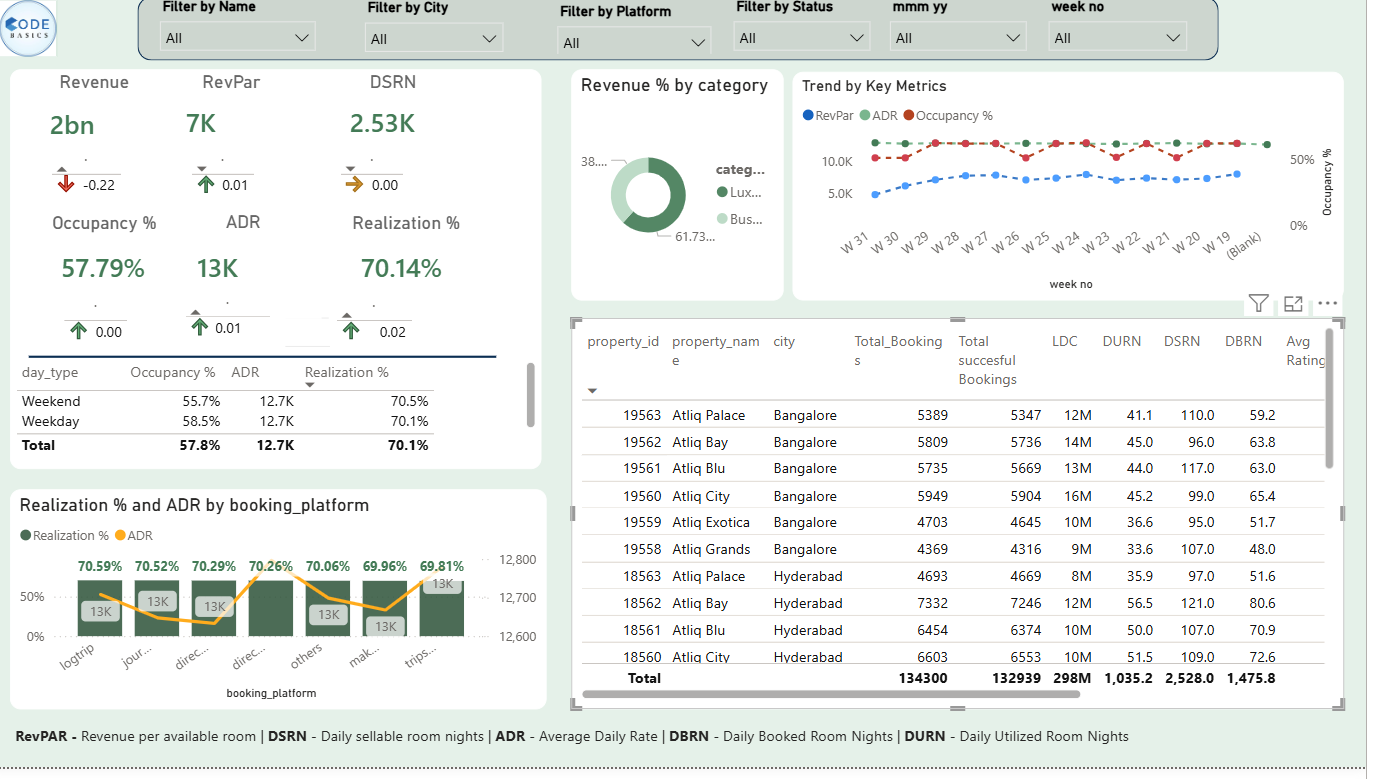

Layout of this report page (visuals, bound fields, positions):
{"tool":"powerbi","page":{"name":"Home","canvas":[1280,720],"ordinal":0},"visuals":[{"type":"textbox","box":[18.6,70.9,494.2,372.1],"z":0},{"type":"tableEx","fields":{"Values":["dim_name.property_id","dim_name.property_name","dim_name.city","Key Measures.Total_Bookings","Key Measures.Total succesful Bookings","Key Measures.LDC","Key Measures.DURN","Key Measures.DSRN","Key Measures.DBRN","Key Measures.Avg Ratings","Key Measures.CR","Key Measures.ADR"]},"box":[540.7,302.3,718.6,364],"z":1000},{"type":"cardVisual","title":"Revenue","fields":{"Data":["Key Measures.Revenue"]},"box":[25.6,71.6,143,95.3],"z":3000},{"type":"tableEx","fields":{"Values":["Key Measures.Revenue WoW change %"]},"box":[50.7,137,97.7,60.5],"z":4000},{"type":"donutChart","title":"Revenue % by category","fields":{"Y":["Key Measures.Revenue"],"Category":["dim_name.category"]},"box":[540.7,70.9,197.7,215.1],"z":5000},{"type":"shape","box":[137.2,3.5,1005.8,59.3],"z":6000},{"type":"slicer","fields":{"Values":["dim_name.property_name"]},"box":[147.7,0,165.1,59.3],"z":7000},{"type":"slicer","fields":{"Values":["dim_name.city"]},"box":[338.4,1.2,148.8,60.5],"z":8000},{"type":"slicer","fields":{"Values":["fact_bookings.booking_status"]},"box":[681.4,0,147.7,64],"z":9000},{"type":"slicer","fields":{"Values":["fact_bookings.booking_platform"]},"box":[517.4,4.7,164,52.3],"z":10000},{"type":"slicer","fields":{"Values":["dim_date.mmm yy.Variation.Date Hierarchy.Month"]},"box":[205.9,275.7,147.7,53.5],"z":11000},{"type":"slicer","fields":{"Values":["dim_date.week no"]},"box":[974.4,0,148.8,58.1],"z":12000},{"type":"cardVisual","title":"RevPar","fields":{"Data":["Key Measures.RevPar"]},"box":[152.3,71.6,144.2,94.2],"z":13000},{"type":"lineChart","title":"Trend by Key Metrics","fields":{"Category":["dim_date.week no"],"Y":["Key Measures.RevPar","Key Measures.ADR"],"Y2":["Key Measures.Occupancy %"]},"box":[746.5,73.3,512.8,212.8],"z":14000},{"type":"lineStackedColumnComboChart","fields":{"Y":["Key Measures.Realization %"],"Y2":["Key Measures.ADR"],"Category":["fact_bookings.booking_platform"]},"box":[18.6,461.6,498.8,204.7],"z":15000},{"type":"cardVisual","title":"DSRN","fields":{"Data":["Key Measures.DSRN"]},"box":[304.7,71.6,140.7,94.2],"z":16000},{"type":"cardVisual","title":"Occupancy %","fields":{"Data":["Key Measures.Occupancy %"]},"box":[35.8,204,140.7,100],"z":17000},{"type":"cardVisual","title":"ADR","fields":{"Data":["Key Measures.ADR"]},"box":[162.6,202.8,145.3,101.2],"z":18000},{"type":"cardVisual","title":"Realization %","fields":{"Data":["Key Measures.Realization %"]},"box":[314.9,204,144.2,100],"z":19000},{"type":"tableEx","fields":{"Values":["Key Measures.DSRN WoW change %"]},"box":[319.3,137,82.6,60.5],"z":20000},{"type":"tableEx","fields":{"Values":["Key Measures.Occupancy WoW change %"]},"box":[62.6,273.3,81.4,61.6],"z":21000},{"type":"tableEx","fields":{"Values":["Key Measures.ADR WoW change %"]},"box":[175.8,270.2,98.8,68.6],"z":22000},{"type":"tableEx","fields":{"Values":["Key Measures.Realisation WoW change %"]},"box":[316.5,273.7,95.3,65.1],"z":23000},{"type":"shape","box":[36,327.9,434.9,20.9],"z":24000},{"type":"tableEx","fields":{"Values":["dim_date.day_type","Key Measures.Occupancy %","Key Measures.ADR","Key Measures.Realization %"]},"box":[18.6,348.8,494.2,94.2],"z":25000},{"type":"tableEx","fields":{"Values":["Key Measures.ADR WoW change %"]},"box":[180.9,137,86,60.5],"z":26000},{"type":"textbox","box":[18.6,676.7,1252.3,43],"z":27000},{"type":"image","box":[8.1,7,54.7,52.3],"z":28000},{"type":"slicer","fields":{"Values":["dim_date.mmm yy"]},"box":[826.7,0,147.7,58.1],"z":29000}]}

Visuals, with their boxes in screenshot pixels (x1, y1, x2, y2), scaled from the page's 1280x720 canvas onto the 1375x779 screenshot:
textbox: [20, 77, 551, 479]
tableEx - dim_name.property_id x dim_name.property_name: [581, 327, 1353, 721]
"Revenue" cardVisual: [28, 77, 181, 181]
tableEx - Key Measures.Revenue WoW change %: [54, 148, 159, 214]
"Revenue % by category" donutChart: [581, 77, 793, 309]
shape: [147, 4, 1228, 68]
slicer - dim_name.property_name: [159, 0, 336, 64]
slicer - dim_name.city: [364, 1, 523, 67]
slicer - fact_bookings.booking_status: [732, 0, 891, 69]
slicer - fact_bookings.booking_platform: [556, 5, 732, 62]
slicer - dim_date.mmm yy.Variation.Date Hierarchy.Month: [221, 298, 380, 356]
slicer - dim_date.week no: [1047, 0, 1207, 63]
"RevPar" cardVisual: [164, 77, 319, 179]
"Trend by Key Metrics" lineChart: [802, 79, 1353, 310]
lineStackedColumnComboChart - Key Measures.Realization % x Key Measures.ADR: [20, 499, 556, 721]
"DSRN" cardVisual: [327, 77, 478, 179]
"Occupancy %" cardVisual: [38, 221, 190, 329]
"ADR" cardVisual: [175, 219, 331, 329]
"Realization %" cardVisual: [338, 221, 493, 329]
tableEx - Key Measures.DSRN WoW change %: [343, 148, 432, 214]
tableEx - Key Measures.Occupancy WoW change %: [67, 296, 155, 362]
tableEx - Key Measures.ADR WoW change %: [189, 292, 295, 367]
tableEx - Key Measures.Realisation WoW change %: [340, 296, 442, 367]
shape: [39, 355, 506, 377]
tableEx - dim_date.day_type x Key Measures.Occupancy %: [20, 377, 551, 479]
tableEx - Key Measures.ADR WoW change %: [194, 148, 287, 214]
textbox: [20, 732, 1365, 778]
image: [9, 8, 67, 64]
slicer - dim_date.mmm yy: [888, 0, 1047, 63]
